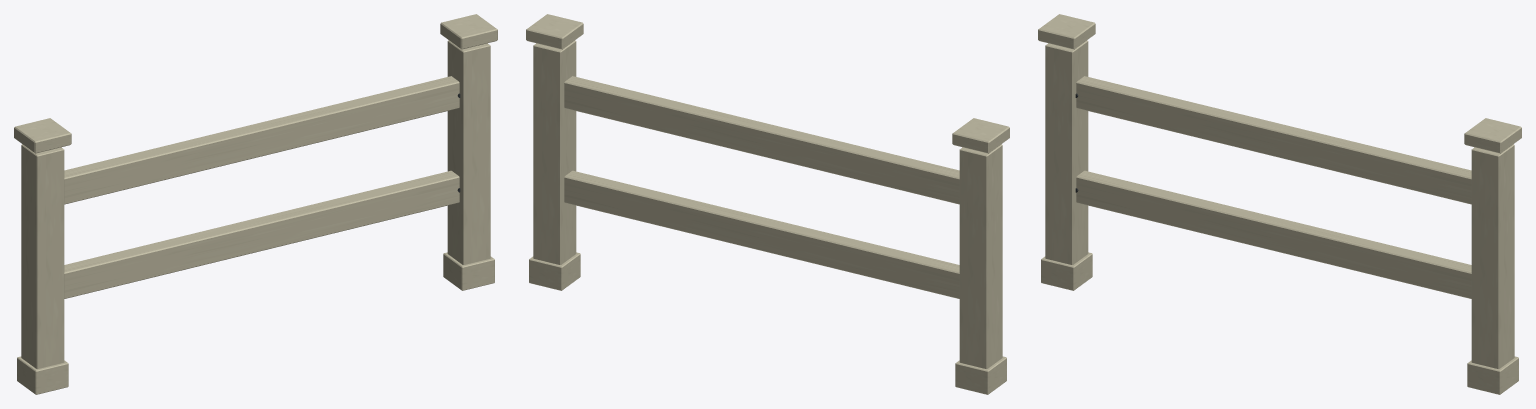
Rendered from fence_two_rail.glb.
The picture shows the model from 3 angles, left to right: view 1: azimuth 30°, elevation 25°; view 2: azimuth 150°, elevation 25°; view 3: azimuth 330°, elevation 25°; orthographic projection.
Parts seen in each view (by area): view 1: outdoor_fence_two_rail; view 2: outdoor_fence_two_rail; view 3: outdoor_fence_two_rail.
Boxes of the visible parts, bbox=[...] form: outdoor_fence_two_rail: bbox=[14, 14, 497, 394]; outdoor_fence_two_rail: bbox=[526, 14, 1009, 394]; outdoor_fence_two_rail: bbox=[1038, 14, 1521, 394].
Bounding box in the file's own units: 2 × 1.05 × 0.16.
2 materials, 2 textured.
